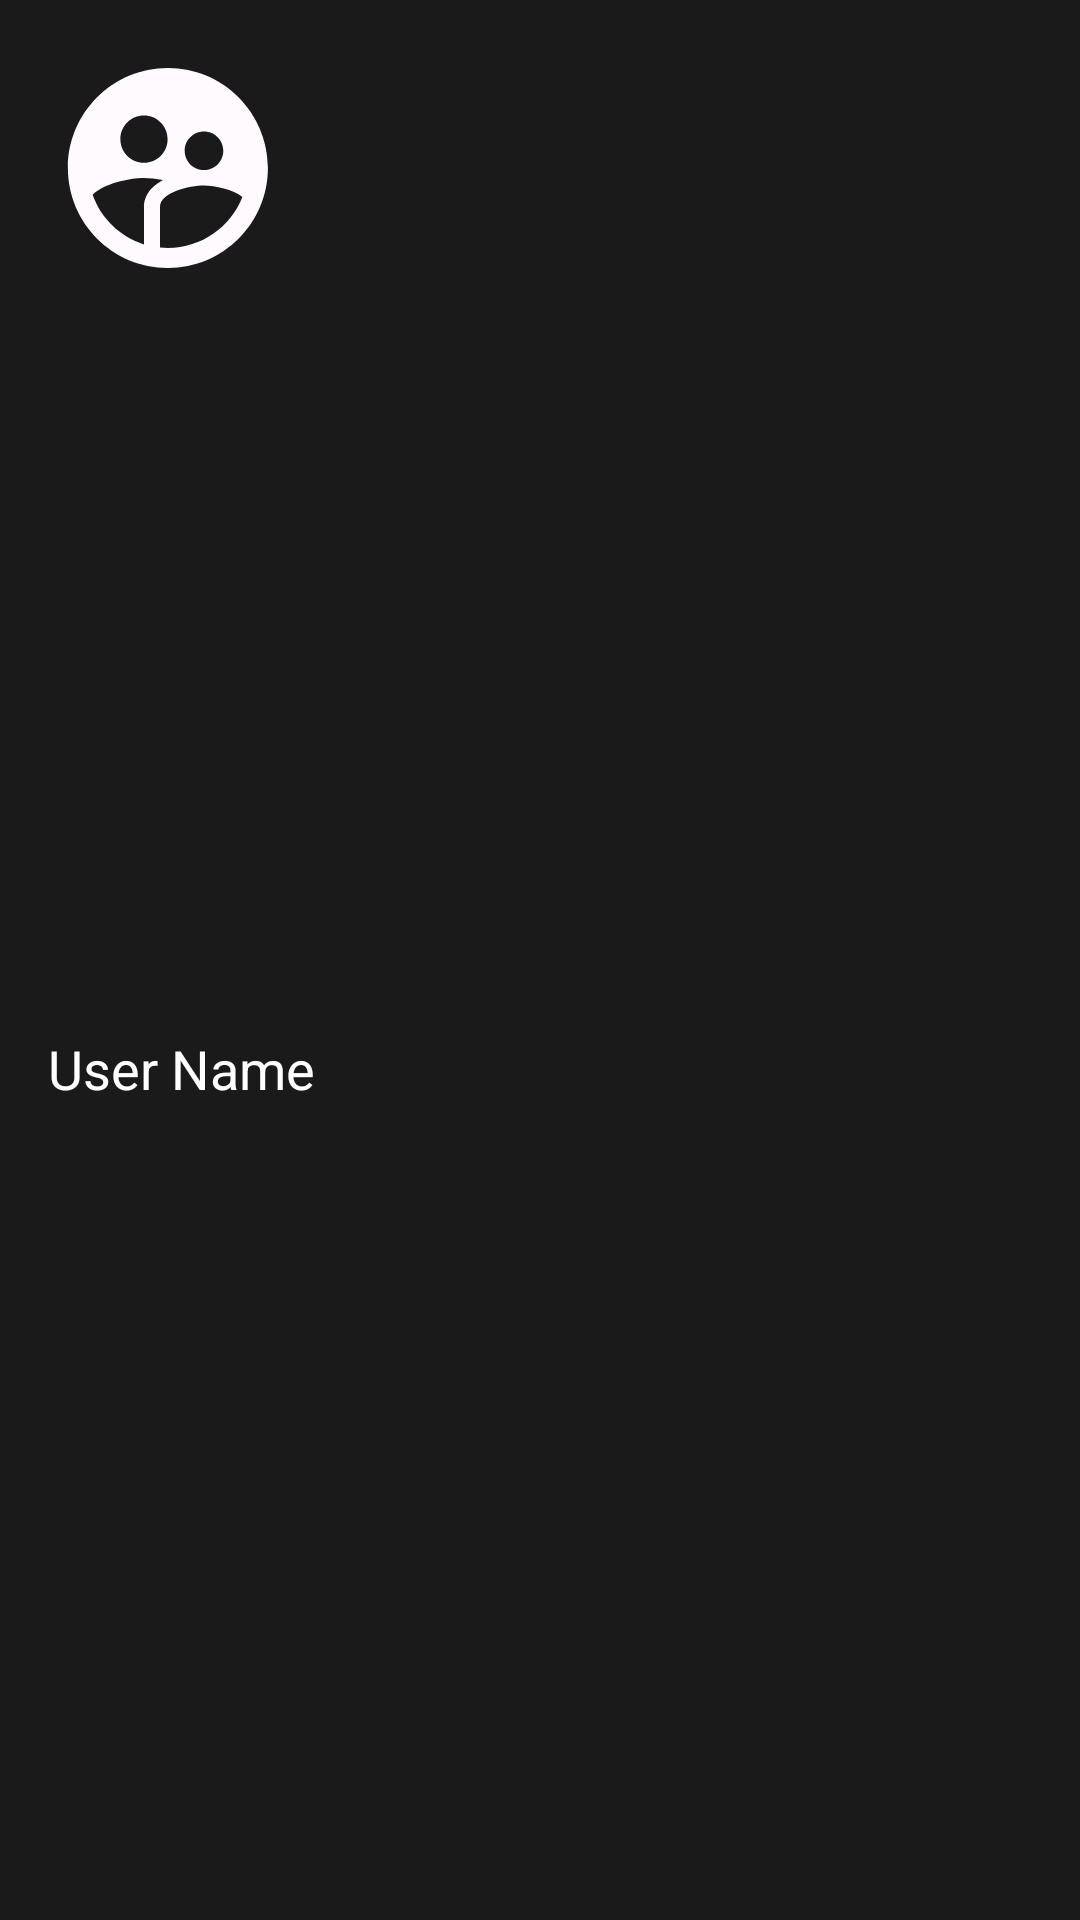

Where icons sit on this 1080×1920 app screen, as (x1, y1, x2, y2):
user: (67, 68, 268, 268)
